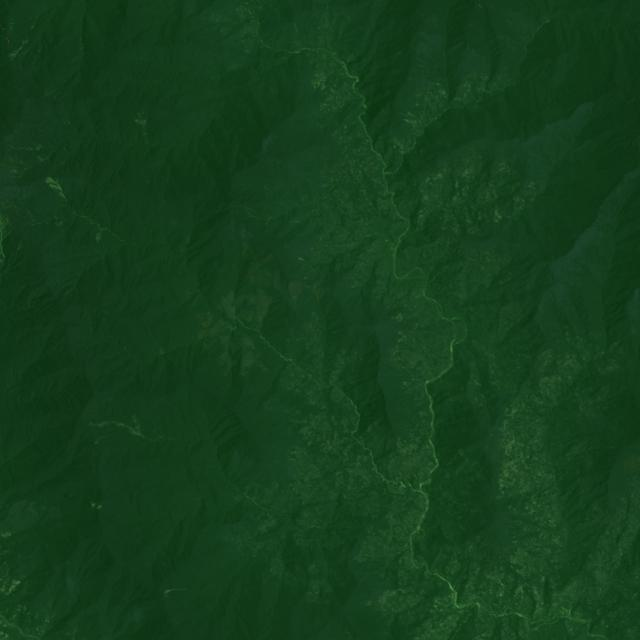landslides: (89, 421, 160, 443), (7, 19, 38, 62), (18, 194, 37, 225), (137, 119, 150, 142), (244, 206, 263, 219), (47, 177, 61, 188), (133, 414, 141, 433), (95, 228, 105, 242), (95, 435, 107, 444), (165, 589, 186, 594)
